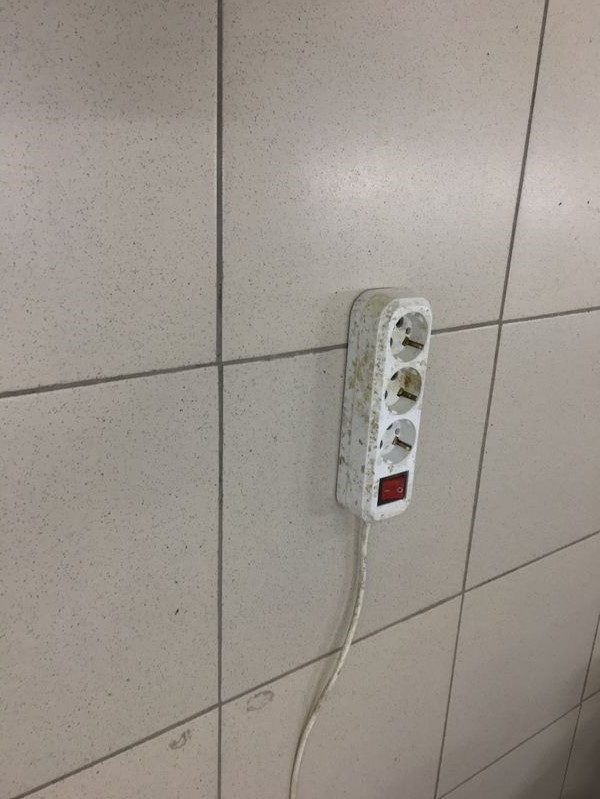socket: (319, 272, 439, 525)
